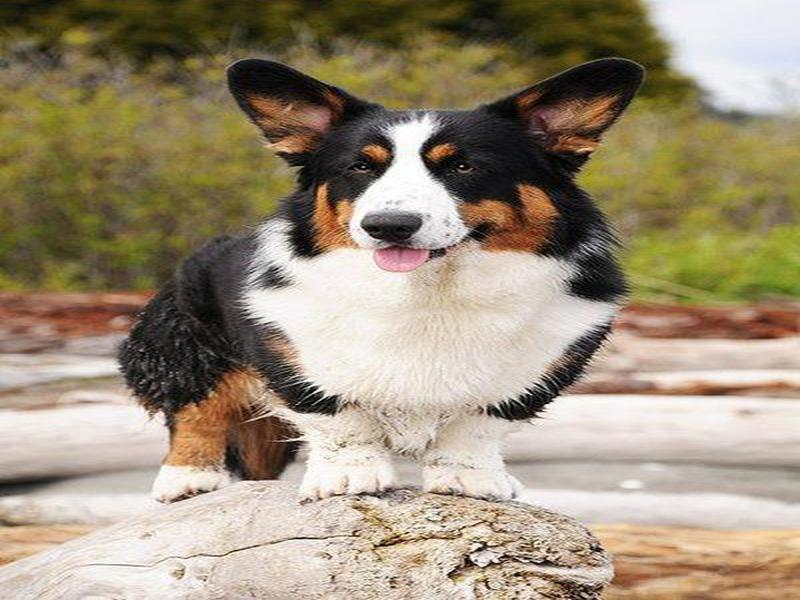corgi: (229, 56, 648, 274)
